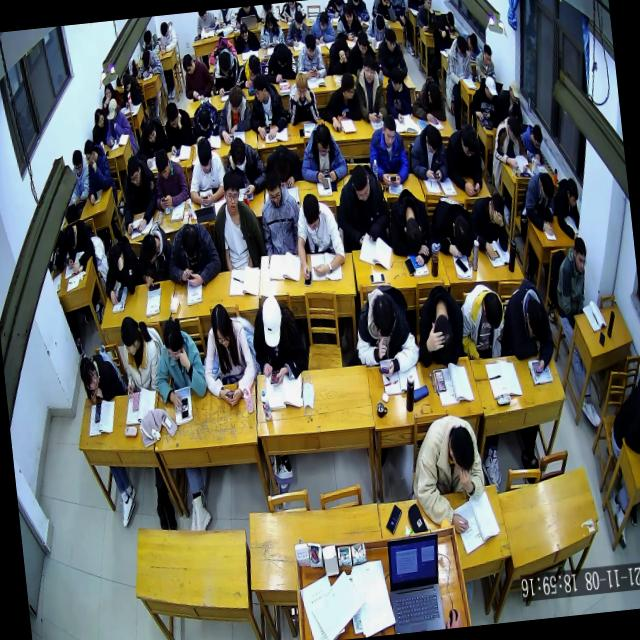bow: (148, 310, 208, 415), (501, 274, 559, 378), (411, 282, 469, 371), (163, 218, 224, 292), (384, 184, 434, 268), (428, 192, 477, 262), (220, 134, 268, 202), (132, 220, 174, 287), (77, 348, 125, 406), (520, 170, 558, 238), (489, 112, 529, 175), (550, 176, 584, 243), (134, 112, 172, 169), (261, 141, 303, 191), (408, 76, 448, 126), (260, 40, 300, 85), (188, 98, 222, 145), (324, 34, 354, 76), (205, 34, 238, 66), (364, 11, 392, 45), (134, 48, 164, 78), (431, 17, 454, 53), (137, 28, 160, 59), (460, 28, 481, 61), (438, 8, 456, 34)
down: (446, 422, 477, 474), (258, 292, 286, 349), (370, 292, 399, 342), (522, 296, 550, 343), (208, 302, 234, 351), (431, 312, 457, 358), (160, 317, 186, 361), (178, 220, 201, 262), (300, 192, 323, 233), (350, 162, 372, 204), (481, 290, 504, 329), (263, 165, 284, 205), (270, 143, 292, 180), (194, 136, 214, 176), (458, 121, 479, 158), (228, 136, 248, 174), (313, 120, 333, 156), (378, 114, 398, 150), (486, 192, 507, 226), (106, 241, 126, 275), (536, 171, 556, 204), (140, 231, 158, 267), (292, 68, 310, 102), (125, 154, 143, 188), (504, 112, 523, 144), (423, 124, 443, 154), (154, 147, 172, 180), (226, 84, 244, 115), (564, 176, 580, 210), (82, 138, 98, 169), (62, 222, 78, 252), (164, 99, 180, 129), (216, 48, 232, 78), (426, 80, 442, 110), (142, 117, 158, 146), (530, 122, 544, 152), (104, 98, 120, 124), (246, 52, 262, 78), (274, 42, 290, 68), (196, 106, 212, 132), (70, 148, 84, 177), (382, 27, 397, 54), (355, 29, 370, 56), (483, 75, 498, 102), (303, 30, 317, 58), (454, 32, 468, 57), (481, 42, 494, 68), (182, 52, 196, 76), (316, 10, 331, 31), (342, 2, 354, 26), (508, 80, 520, 104), (238, 20, 250, 42), (374, 12, 386, 34), (466, 32, 479, 52), (292, 10, 304, 31), (120, 72, 132, 92), (140, 50, 152, 70), (264, 10, 275, 30), (421, 0, 433, 10)
lookup: (220, 168, 243, 214), (571, 235, 589, 276), (360, 52, 378, 86), (103, 81, 114, 102)
sit: (408, 410, 490, 539), (348, 278, 422, 381), (196, 298, 259, 407), (206, 164, 268, 274), (248, 288, 310, 386), (332, 158, 394, 255), (290, 188, 346, 280), (256, 163, 304, 262), (456, 280, 508, 362), (118, 312, 163, 399), (550, 231, 594, 317), (116, 151, 161, 234), (441, 120, 487, 200), (296, 120, 349, 188), (183, 134, 230, 210), (364, 110, 410, 187), (243, 68, 290, 141), (100, 232, 142, 306), (468, 190, 511, 262), (405, 118, 450, 186), (318, 69, 364, 133), (150, 146, 190, 212), (352, 49, 388, 122), (213, 84, 254, 147), (605, 383, 640, 455), (81, 136, 114, 205), (381, 62, 415, 125), (284, 69, 319, 128), (62, 216, 96, 273), (161, 99, 194, 157), (374, 26, 408, 81), (208, 44, 242, 98), (180, 48, 213, 102), (292, 32, 326, 84), (465, 73, 501, 122), (101, 95, 133, 149), (443, 33, 473, 86), (347, 28, 379, 77), (66, 146, 92, 203), (232, 50, 268, 90), (496, 79, 524, 126), (332, 0, 362, 42), (520, 120, 546, 166), (256, 10, 285, 50), (232, 18, 261, 56), (282, 10, 310, 48), (472, 42, 497, 84), (308, 7, 335, 44), (88, 106, 112, 147), (119, 70, 144, 108), (156, 18, 180, 56), (413, 0, 437, 33)
